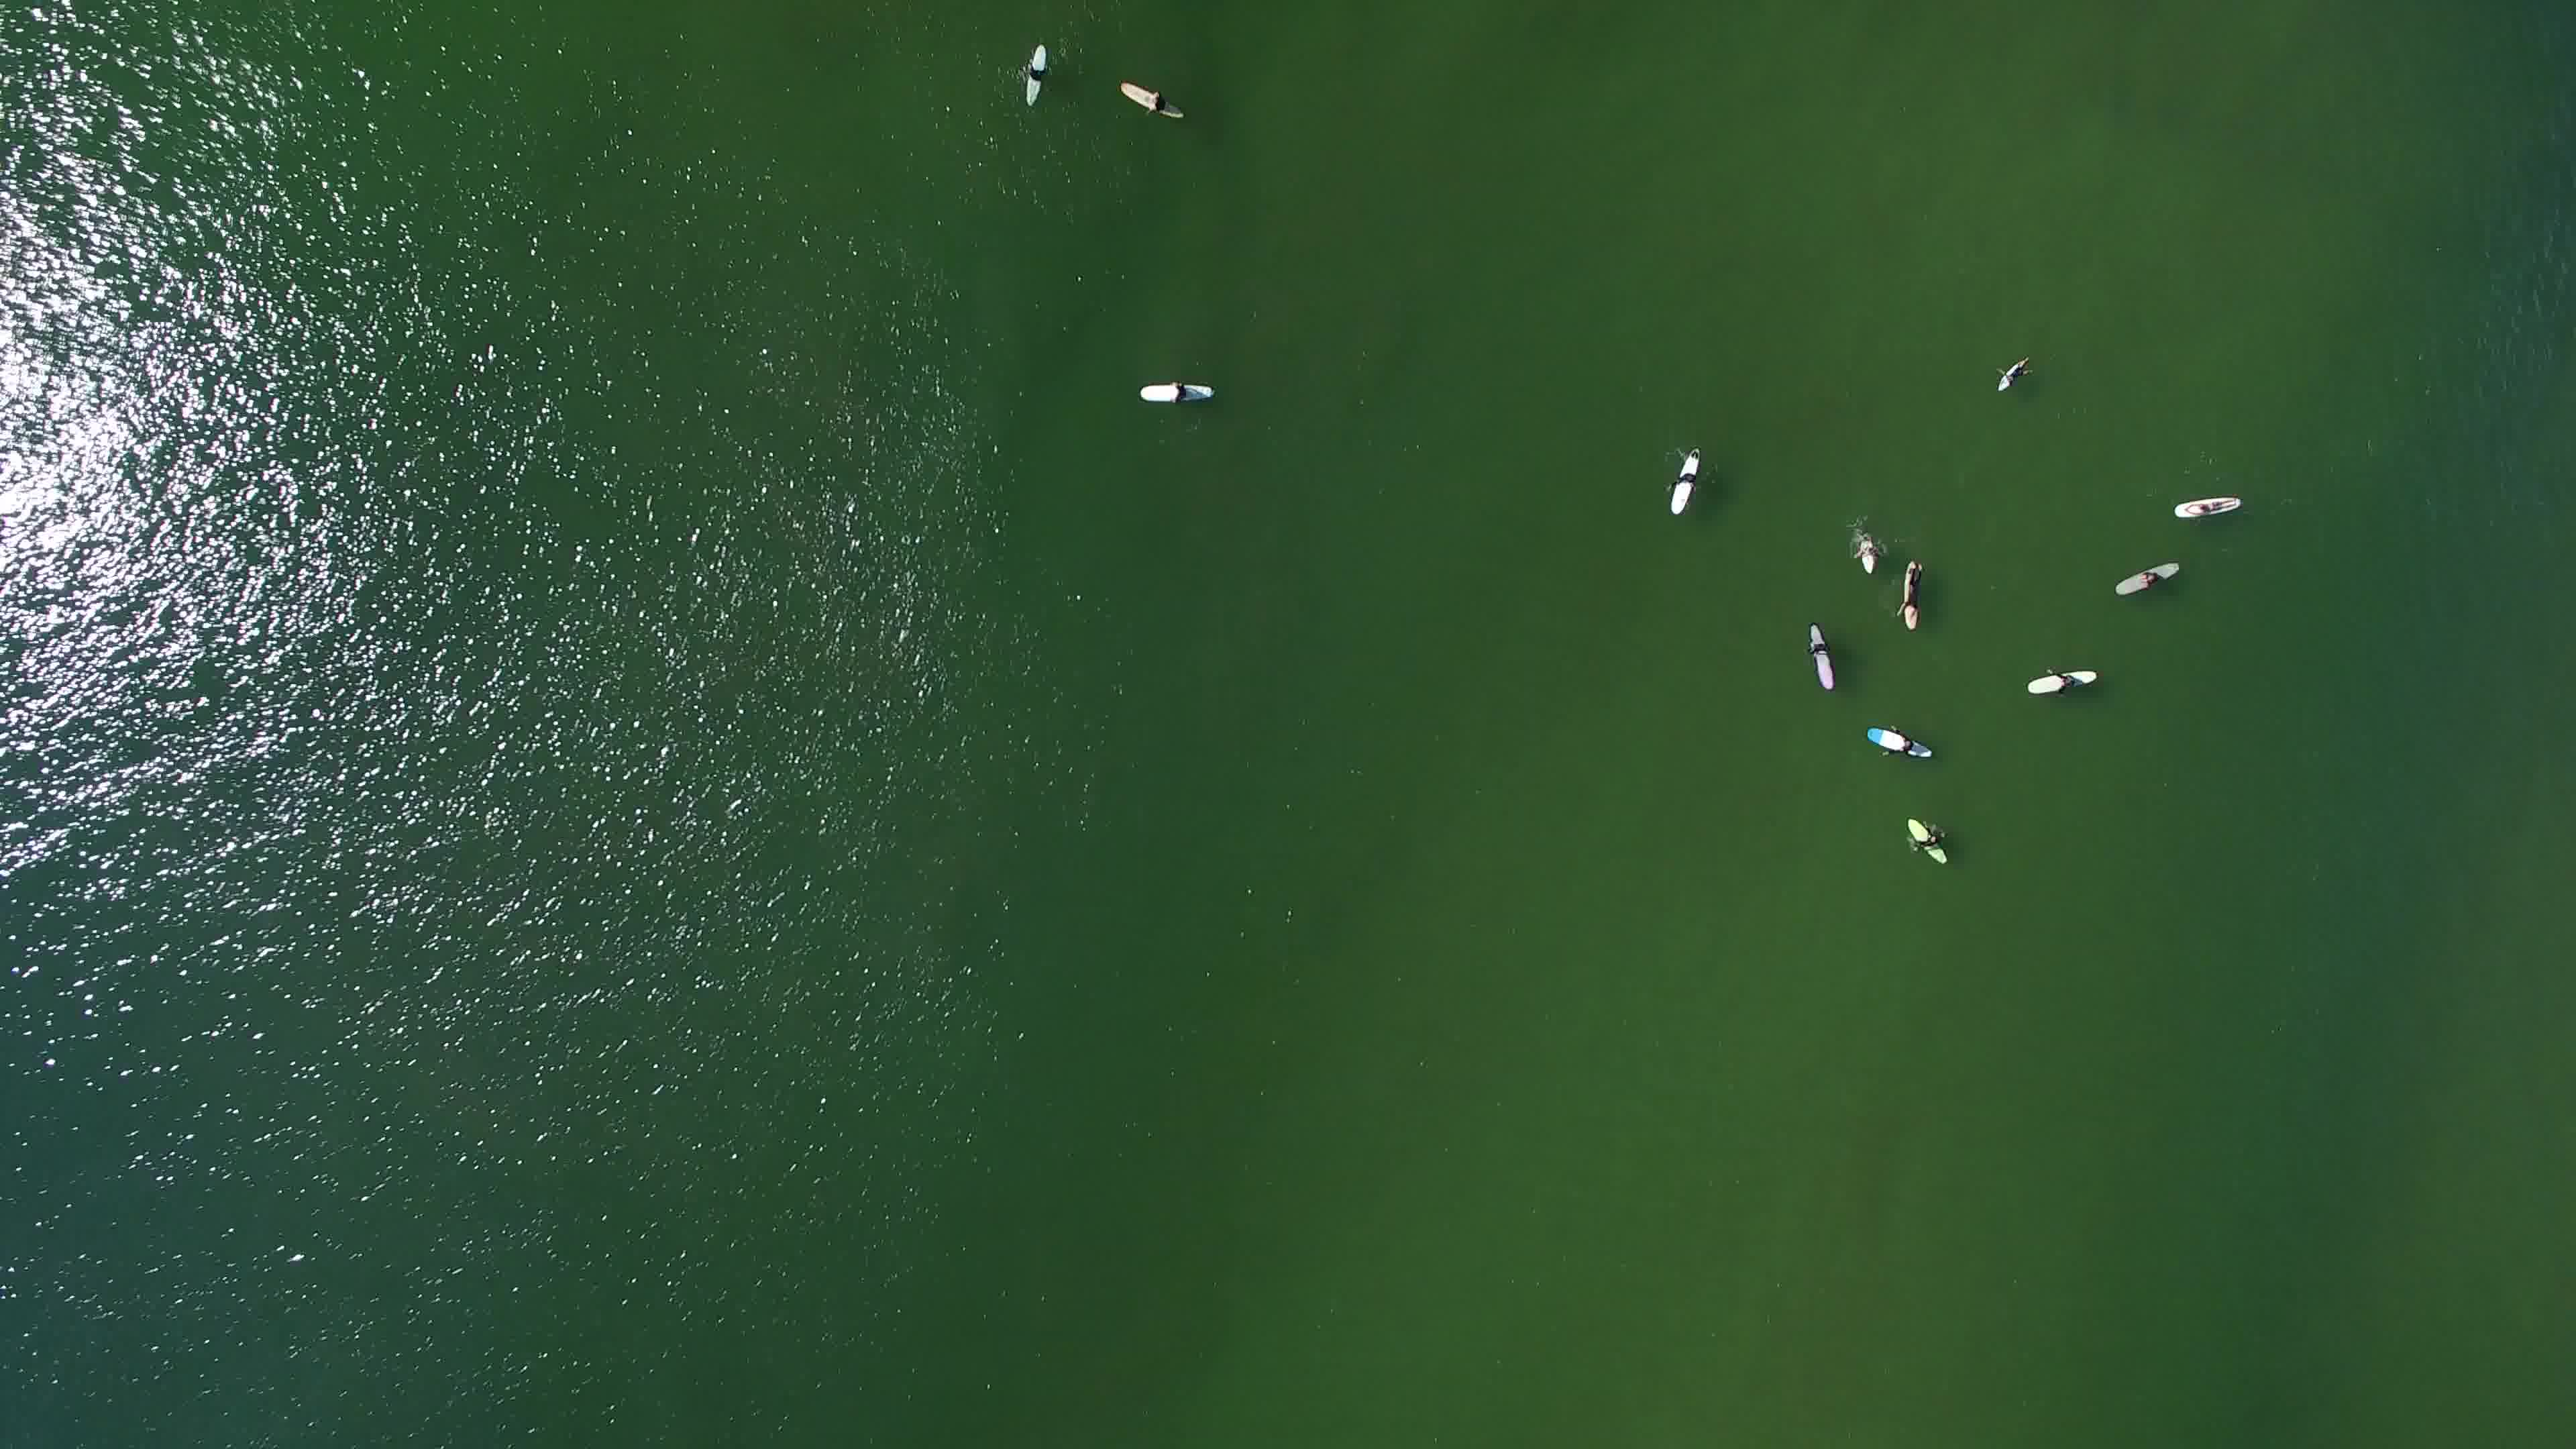surfer: (1891, 810, 1959, 878), (1660, 444, 1714, 525), (1858, 718, 1939, 773), (1794, 617, 1849, 697), (1116, 74, 1191, 131), (1008, 44, 1065, 111), (1893, 554, 1934, 637), (2107, 561, 2187, 603), (1139, 370, 1221, 410), (2029, 671, 2105, 702), (2171, 490, 2247, 522), (1989, 354, 2040, 396), (1849, 527, 1884, 575)
